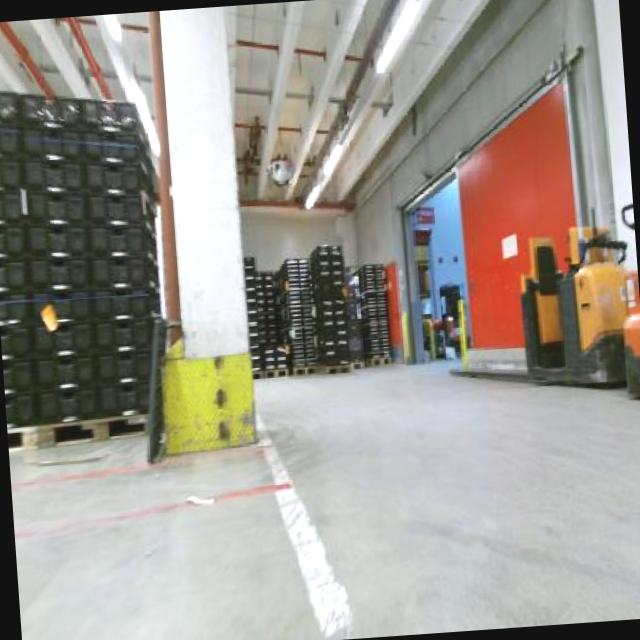pallet: (7, 410, 154, 454), (242, 352, 394, 388)
